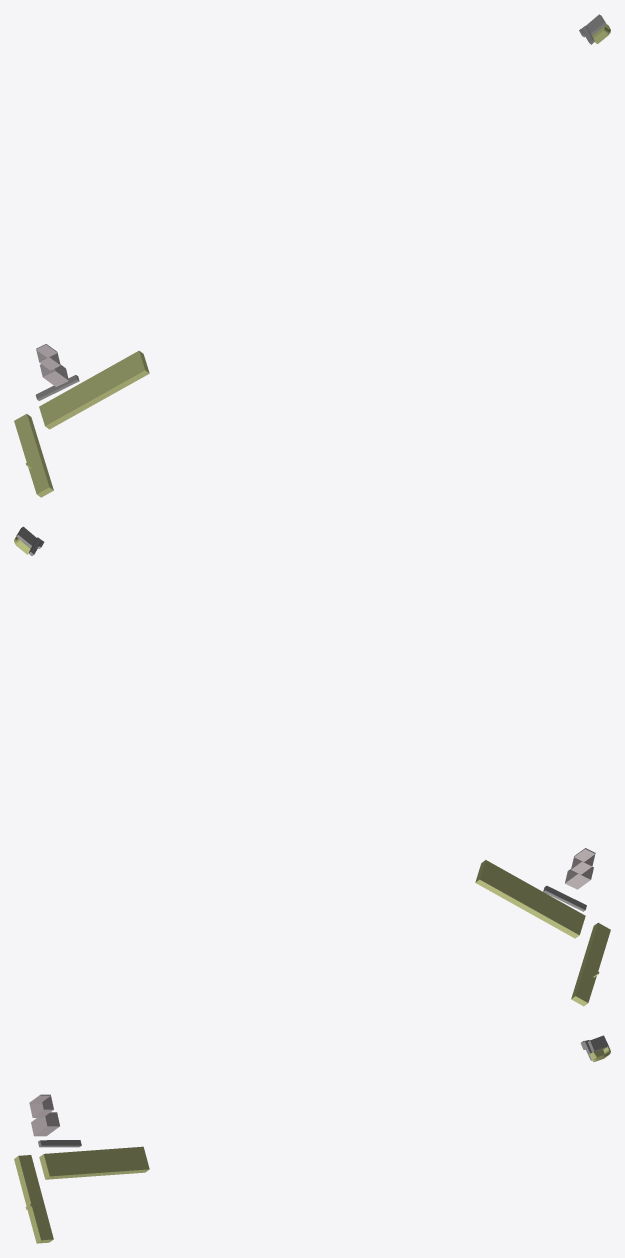
The picture shows the model from 3 angles, top to bottom: view 1: azimuth 30°, elevation 25°; view 2: azimuth 150°, elevation 25°; view 3: azimuth 330°, elevation 25°; orthographic projection.
Parts seen in each view (by area): view 1: 0_2_3_2_1; view 2: 0_2_3_2_1; view 3: 0_2_3_2_1.
Part boxes in pixels (x1,y1,x2,y2): 0_2_3_2_1: (14, 14, 610, 497); 0_2_3_2_1: (14, 526, 610, 1006); 0_2_3_2_1: (14, 1035, 610, 1243).
Size of the model in its own units: 455 by 251 by 18.61.
